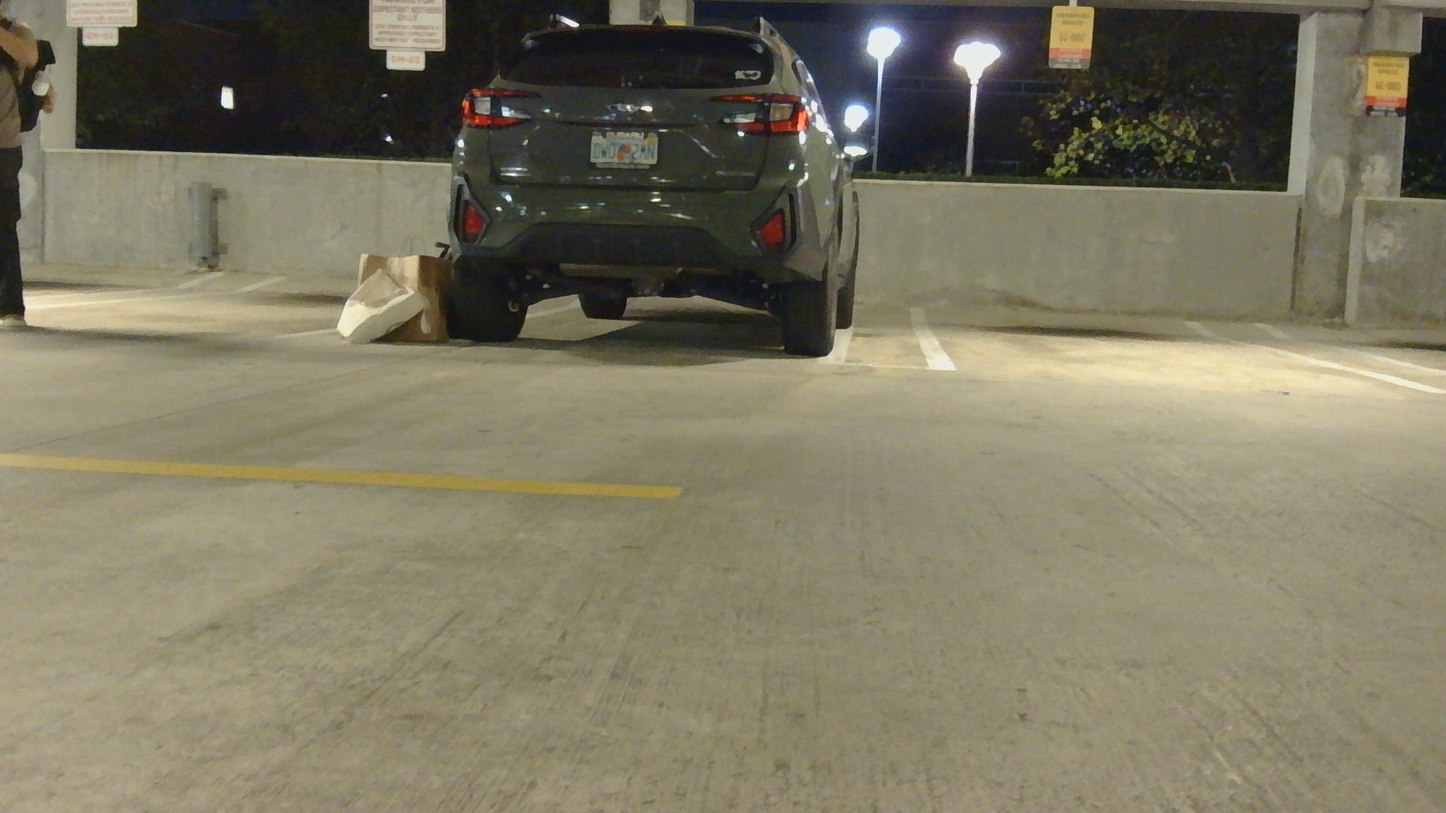empty_spot: (22, 155, 461, 445), (898, 226, 1446, 397)
occupied_spot: (441, 9, 870, 365)
